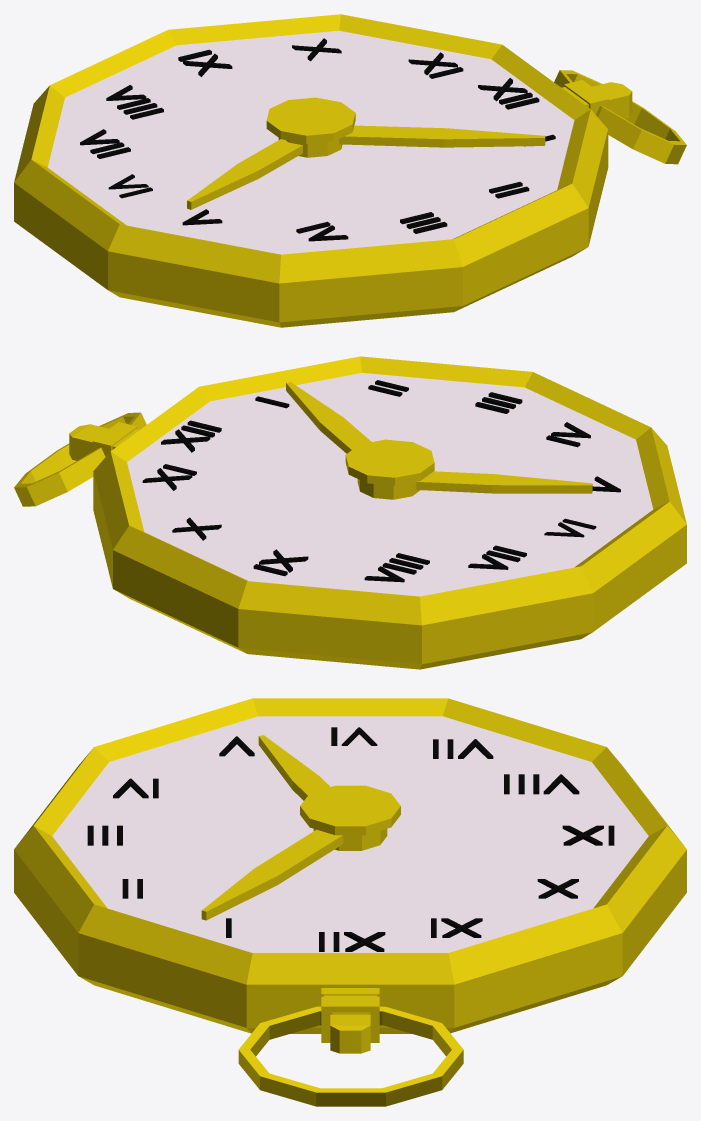
Rendered from Stopwatch.fbx.
3 views of the same model, one above another, from view 1: azimuth 30°, elevation 25°; view 2: azimuth 150°, elevation 25°; view 3: azimuth 270°, elevation 25° (orthographic). The views are drawn at different scales.
Parts seen in each view (by area): view 1: Cylinder.002, Text.009, Text, Text.011, Text.001, Text.002, Text.010, Text.007; view 2: Cylinder.002, Text.009, Text, Text.011, Text.001, Text.002, Text.010, Text.007; view 3: Cylinder.002, Text, Text.009, Text.002.
Boxes of the visible parts, x1,y1,x2,y2 form: Cylinder.002: [14, 14, 686, 327]; Text.009: [106, 85, 163, 119]; Text: [478, 78, 539, 109]; Text.011: [80, 129, 130, 158]; Text.001: [400, 212, 447, 233]; Text.002: [178, 49, 232, 76]; Text.010: [408, 52, 463, 78]; Text.007: [296, 221, 348, 241]; Cylinder.002: [14, 356, 686, 669]; Text.009: [364, 553, 429, 582]; Text: [161, 420, 221, 452]; Text.011: [468, 545, 526, 569]; Text.001: [475, 392, 522, 413]; Text.002: [253, 549, 308, 576]; Text.010: [142, 464, 196, 490]; Text.007: [546, 422, 590, 447]; Cylinder.002: [14, 698, 686, 1106]; Text: [319, 932, 385, 951]; Text.009: [504, 774, 579, 794]; Text.002: [562, 825, 614, 845].
Size of the model in its own units: 228 by 38.27 by 200.
